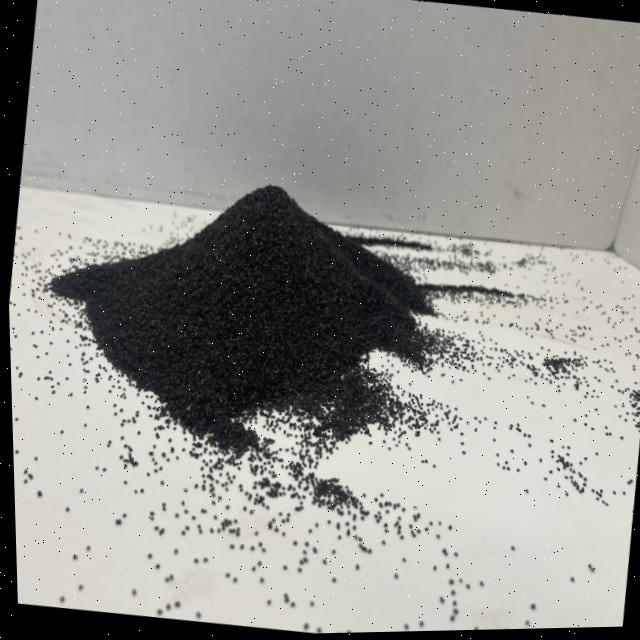Poppy Seeds: (14, 132, 539, 553)
